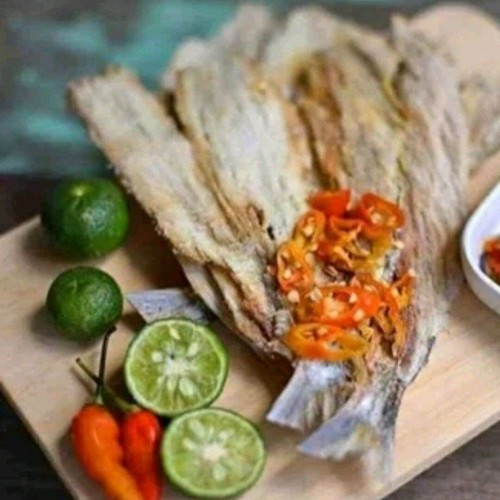sudang lepet: (97, 45, 475, 399)
